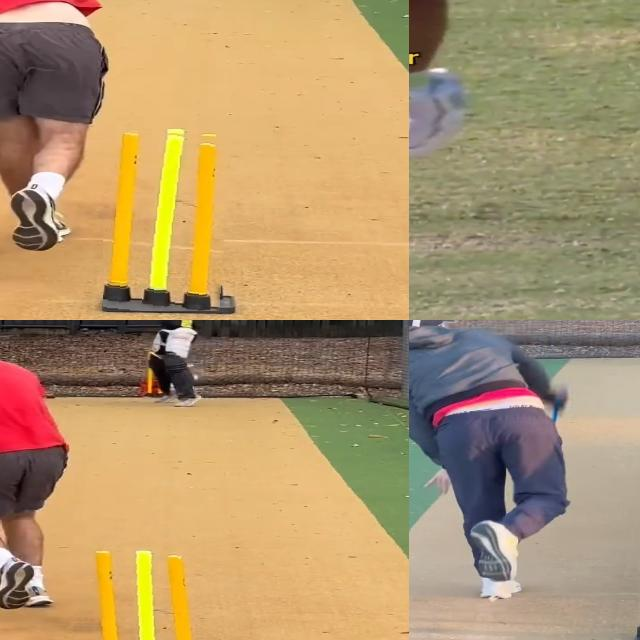Stumps: (103, 127, 232, 311), (74, 547, 195, 640)
